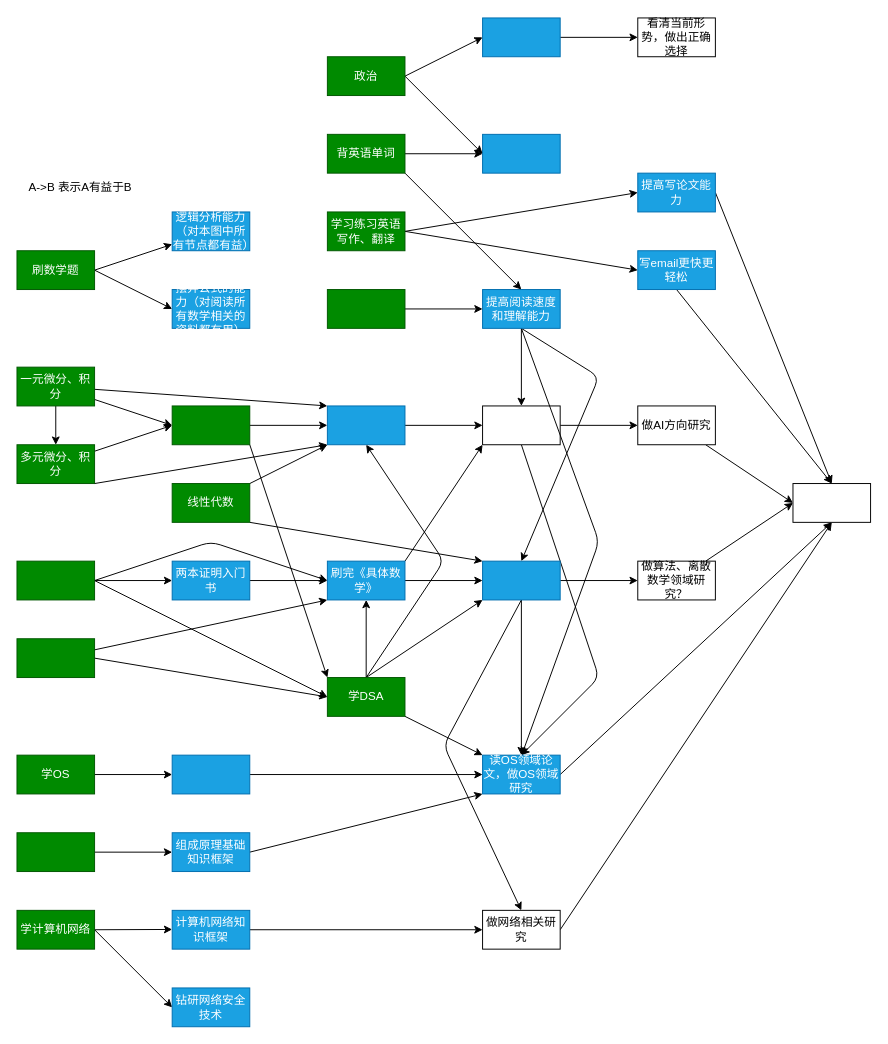
Image size: 888x1044. Some labels were removed from this diagram. The shapes that lost their labels are listed below. From the top down, each one's centre as x and y in pixels, then its label:
At point 521,37: "读懂党八股".
At point 521,153: "提高记忆力".
At point 365,308: "做英语真题".
At point 210,425: "概率统计".
At point 365,425: "入门人工智能、机器学习".
At point 521,425: "读AI领域论文".
At point 831,502: "出国".
At point 55,580: "证明技巧".
At point 521,580: "读算法、离散数学领域论文".
At point 55,658: "常数项级数、函数项级数".
At point 210,774: "OS基础知识框架".
At point 55,852: "学组成原理".
